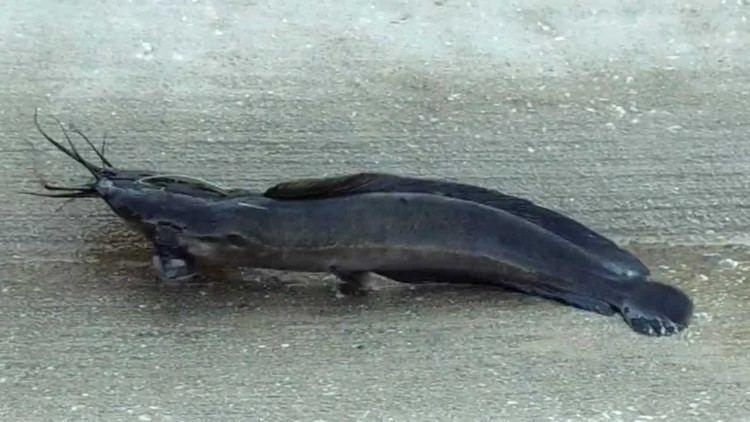Catfish: (26, 98, 713, 350)
